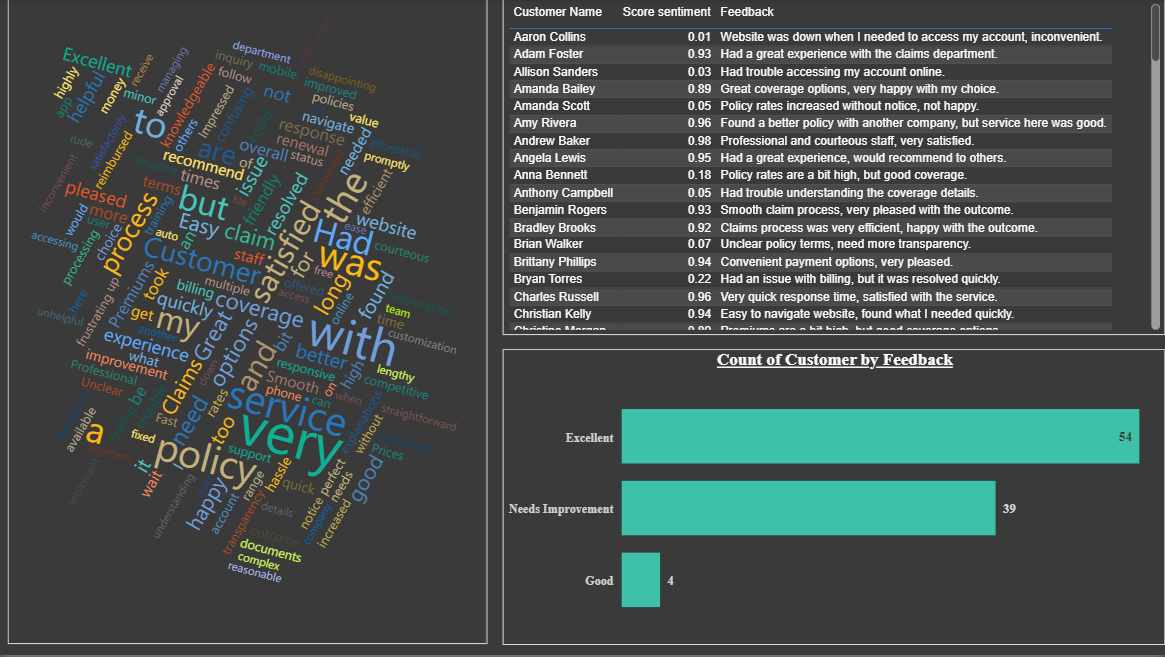

The page's visual inventory and layout, read from the dashboard file:
{"tool":"powerbi","page":{"name":"Page 3","canvas":[1280,720],"ordinal":2},"visuals":[{"type":"WordCloud1447959067750","fields":{"Values":["CountNonNull(Sheet1.Feedback)"],"Category":["Sheet1.Feedback"]},"box":[9.7,0,526,708.2],"z":0},{"type":"barChart","title":"Count of Customer by Feedback","fields":{"Category":["Sheet1.Good/Improvement"],"Y":["CountNonNull(Sheet1.Customer Name)"]},"box":[552.5,383.6,727.5,324.5],"z":1000},{"type":"tableEx","fields":{"Values":["Sheet1.Customer Name","Sheet1.Score sentiment","Sheet1.Feedback"]},"box":[552.5,0,727.5,369.2],"z":2000}]}

Visuals, with their boxes in screenshot pixels (x1, y1, x2, y2), scaled from the page's 1280x720 canvas onto the 1165x657 screenshot:
WordCloud1447959067750 - CountNonNull(Sheet1.Feedback) x Sheet1.Feedback: 9:0:488:646
"Count of Customer by Feedback" barChart: 503:350:1164:646
tableEx - Sheet1.Customer Name x Sheet1.Score sentiment: 503:0:1164:337
